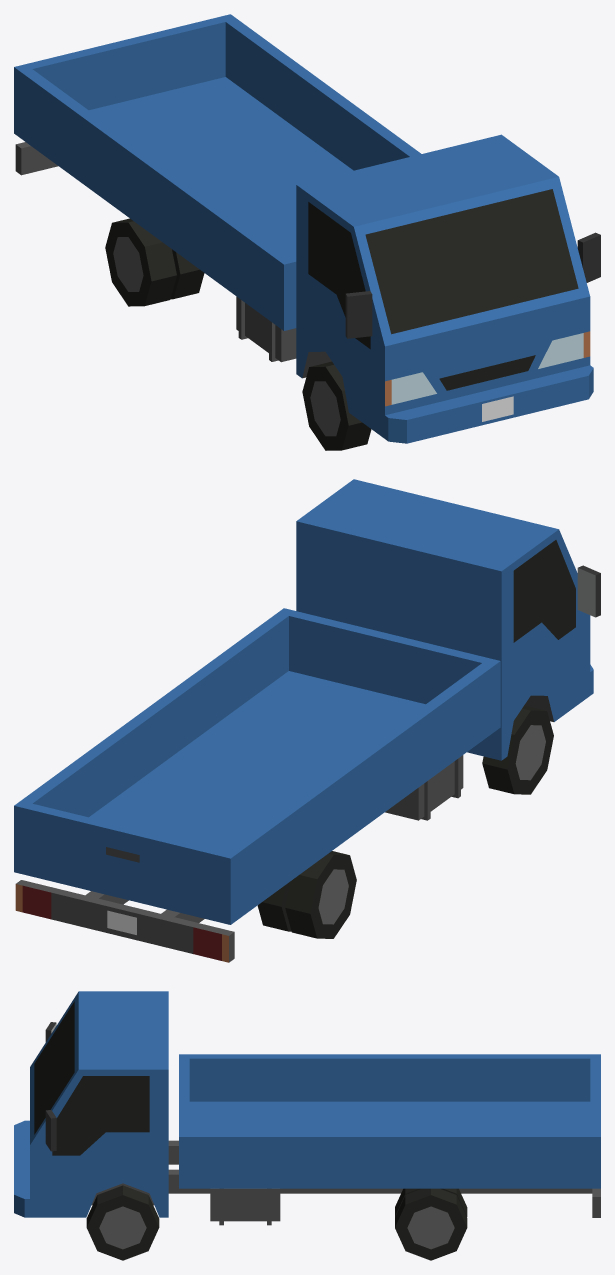
The model's file is Veh_Truck_02_Flat_Blue.obj.
3 renders of one model, top to bottom at view 1: azimuth 30°, elevation 25°; view 2: azimuth 150°, elevation 25°; view 3: azimuth 270°, elevation 25°, orthographic. The views are drawn at different scales.
Size of the model in its own units: 1.27 by 1.17 by 3.26.
